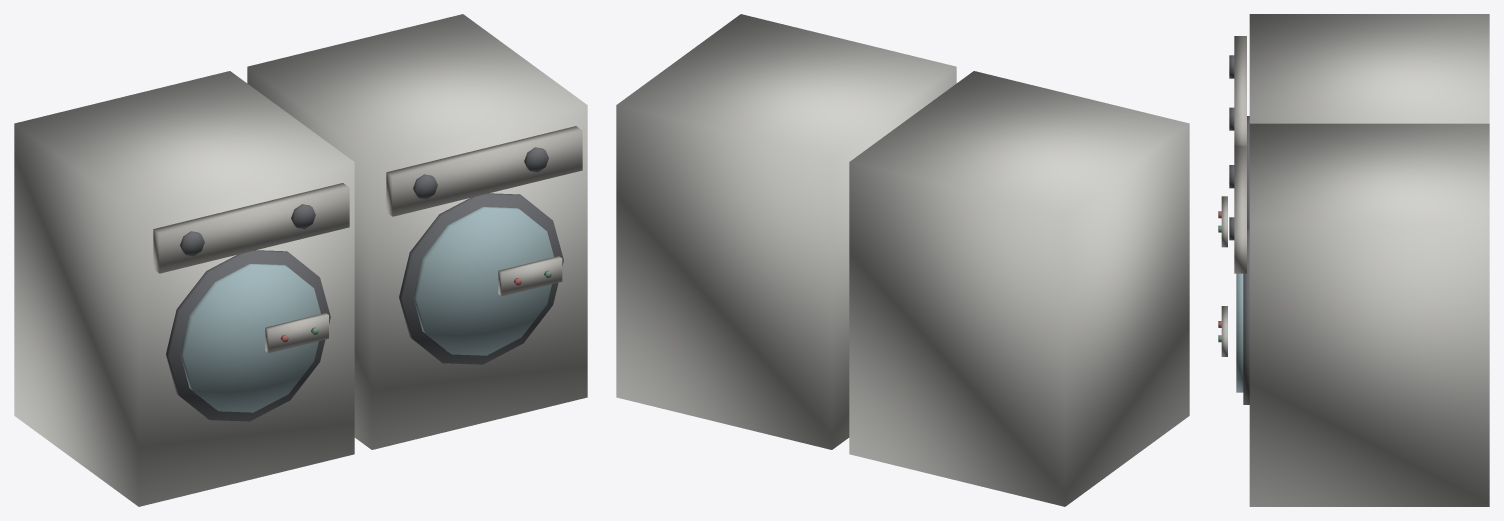
The model's file is domestic_washer__cluster.glb.
3 renders of one model, left to right at view 1: azimuth 30°, elevation 25°; view 2: azimuth 150°, elevation 25°; view 3: azimuth 270°, elevation 25°, orthographic. The views are drawn at different scales.
Visible parts, largest first — view 1: world; view 2: world; view 3: world.
Part boxes in pixels (box(x1,y1,x2,y2)): world: box(14, 14, 587, 506); world: box(616, 14, 1189, 506); world: box(1218, 14, 1489, 506).
Size of the model in its own units: 1.41 by 0.88 by 0.7685.
